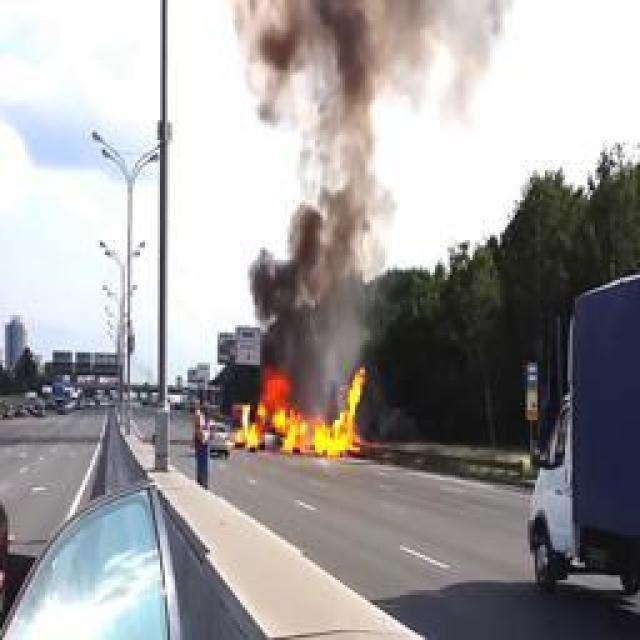Fire: (238, 370, 366, 455)
